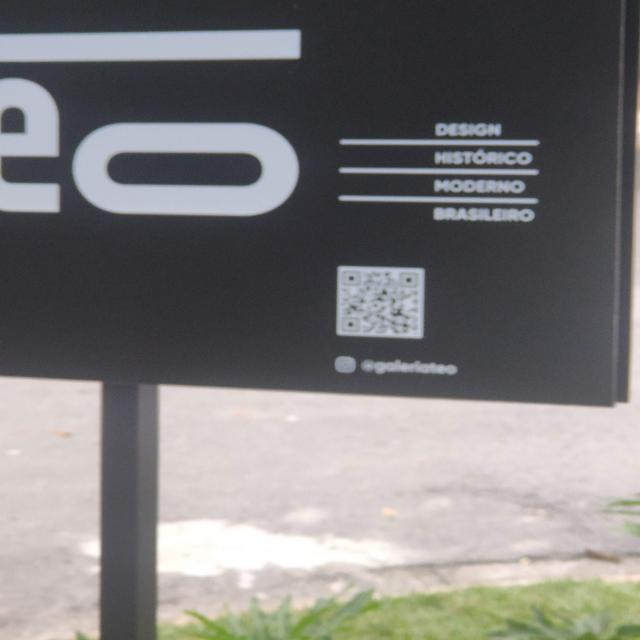qr-code: (342, 270, 419, 334)
